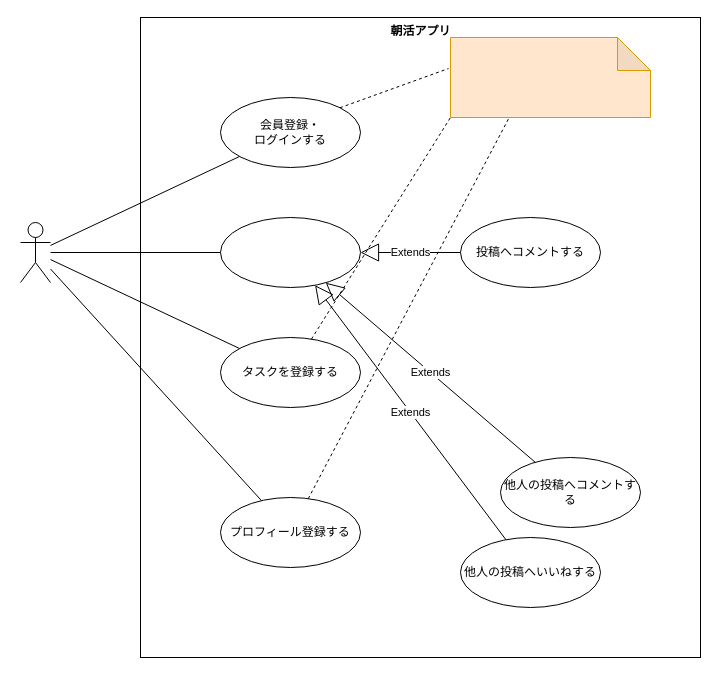
Image size: 718x675. Some labels were removed from this diagram. Each missing label, with the centre of its shape:
"タイムラインへ投稿する" goes at [290,252].
"ユーザ" goes at [35,252].
"単純なので概念モデルは作成しない" goes at [550,77].
